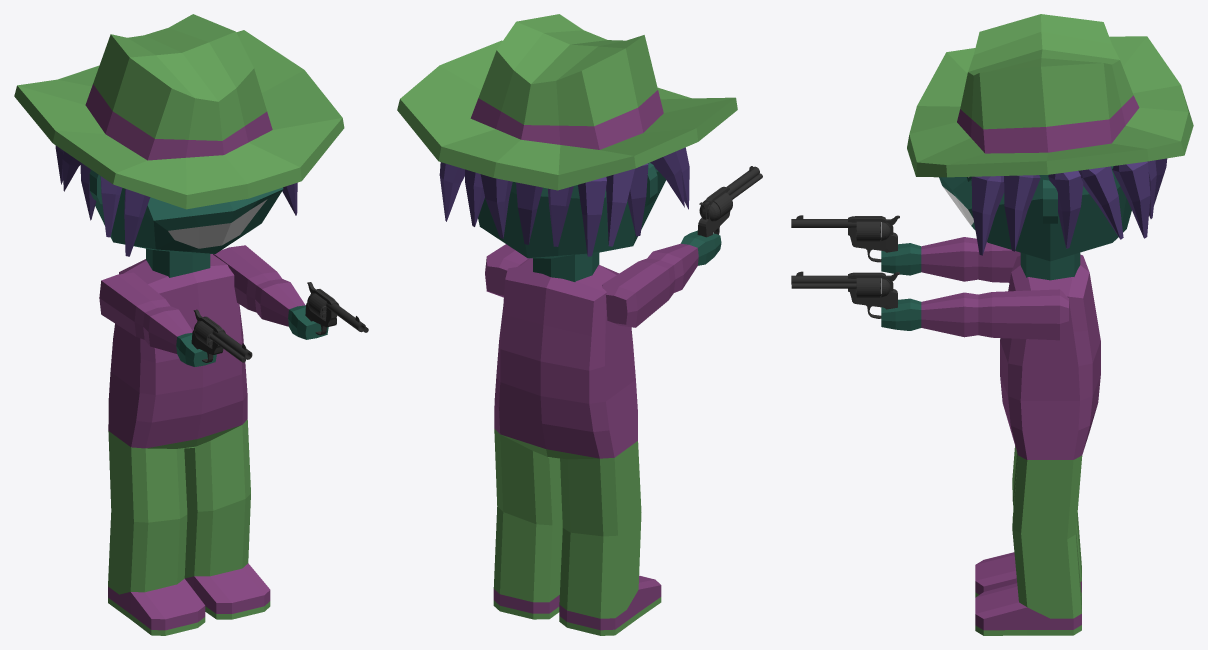
Rendered from SapgettiKid.glb.
The picture shows the model from 3 angles, left to right: view 1: azimuth 30°, elevation 25°; view 2: azimuth 150°, elevation 25°; view 3: azimuth 270°, elevation 25°; orthographic projection. The views are drawn at different scales.
Visible parts, largest first — view 1: Body, SKHat, Arms, SKHead, SKHair, Revolver, Neck; view 2: Body, SKHat, SKHair, Arms, SKHead, Revolver, Neck; view 3: SKHat, Body, Arms, SKHair, SKHead, Revolver, Neck.
Part boxes in pixels (x1,y1,x2,y2): Body: [108, 254, 270, 635]; SKHat: [14, 14, 344, 209]; Arms: [99, 245, 328, 366]; SKHead: [89, 169, 283, 254]; SKHair: [55, 145, 297, 256]; Revolver: [191, 282, 368, 362]; Neck: [146, 248, 210, 277]; Body: [493, 258, 661, 635]; SKHat: [397, 14, 737, 190]; SKHair: [439, 147, 689, 256]; Arms: [485, 230, 721, 327]; SKHead: [478, 162, 665, 258]; Revolver: [697, 166, 762, 237]; Neck: [533, 252, 599, 281]; SKHat: [907, 14, 1193, 177]; Body: [975, 254, 1100, 635]; Arms: [881, 237, 1068, 340]; SKHair: [971, 158, 1167, 255]; SKHead: [939, 166, 1131, 261]; Revolver: [791, 215, 899, 318]; Neck: [1020, 252, 1080, 280].
Size of the model in its own units: 4.3 by 9.02 by 5.81.
